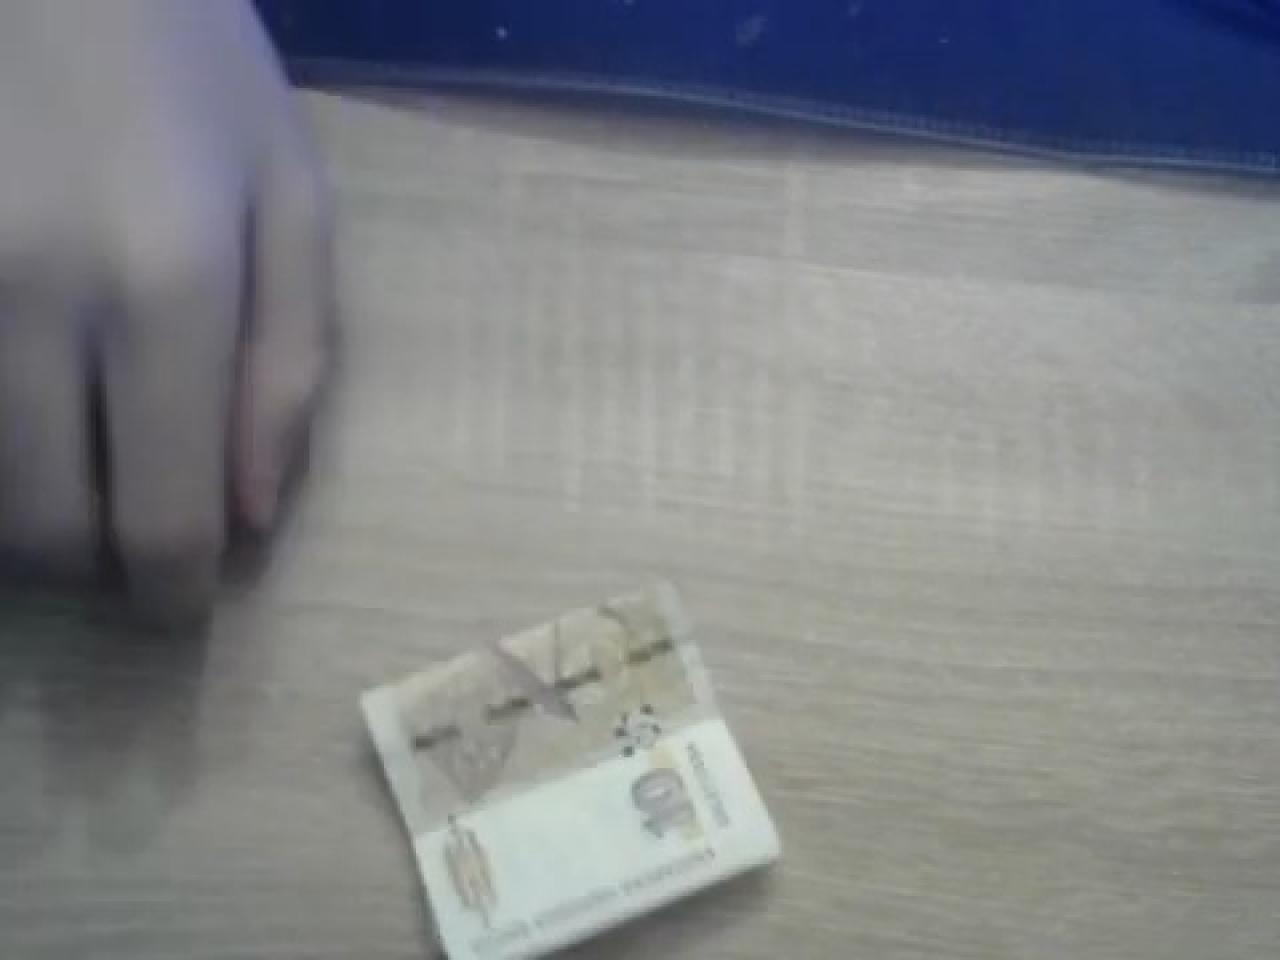10leva: (358, 574, 781, 958)
